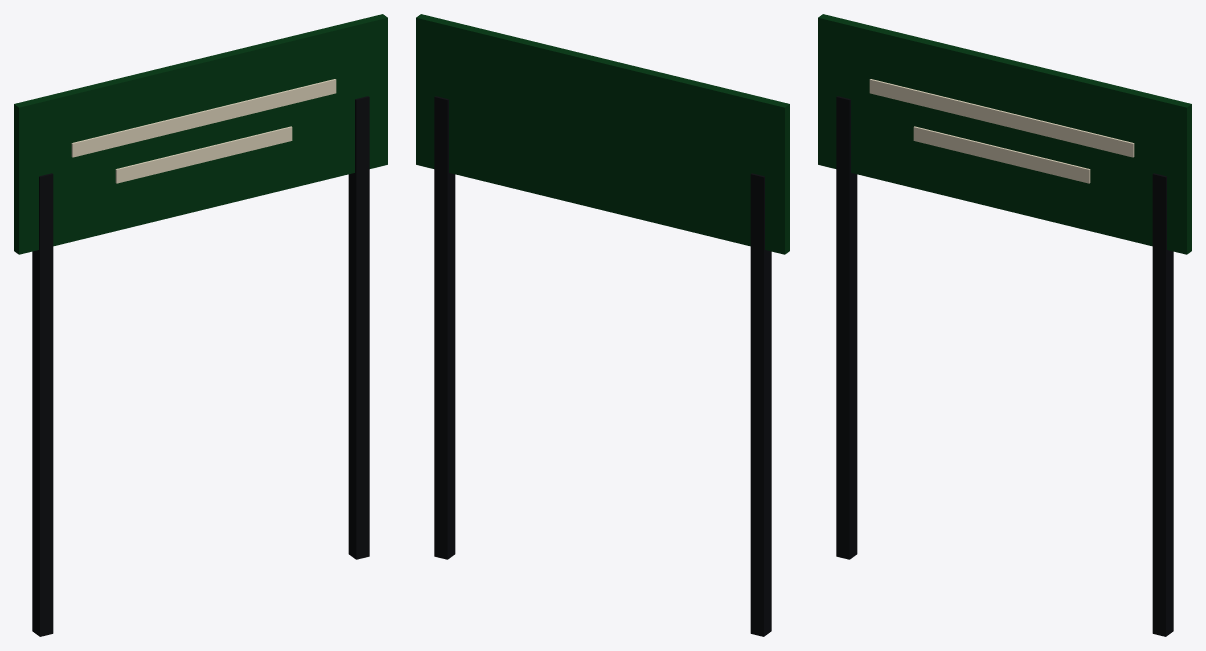
File: direction_signboard.obj
3 renders of one model, left to right at view 1: azimuth 30°, elevation 25°; view 2: azimuth 150°, elevation 25°; view 3: azimuth 330°, elevation 25°, orthographic.
Visible parts, largest first — view 1: direction_signboard; view 2: direction_signboard; view 3: direction_signboard.
Part boxes in pixels (left/top/right/bottom): direction_signboard: left=14, top=14, right=387, bottom=636; direction_signboard: left=416, top=14, right=789, bottom=636; direction_signboard: left=818, top=14, right=1191, bottom=636.
Size of the model in its own units: 4.2 by 5.8 by 0.15.
